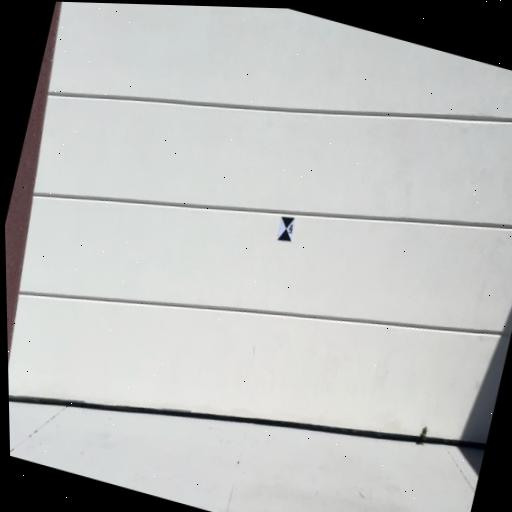target4: (277, 217, 295, 242)
